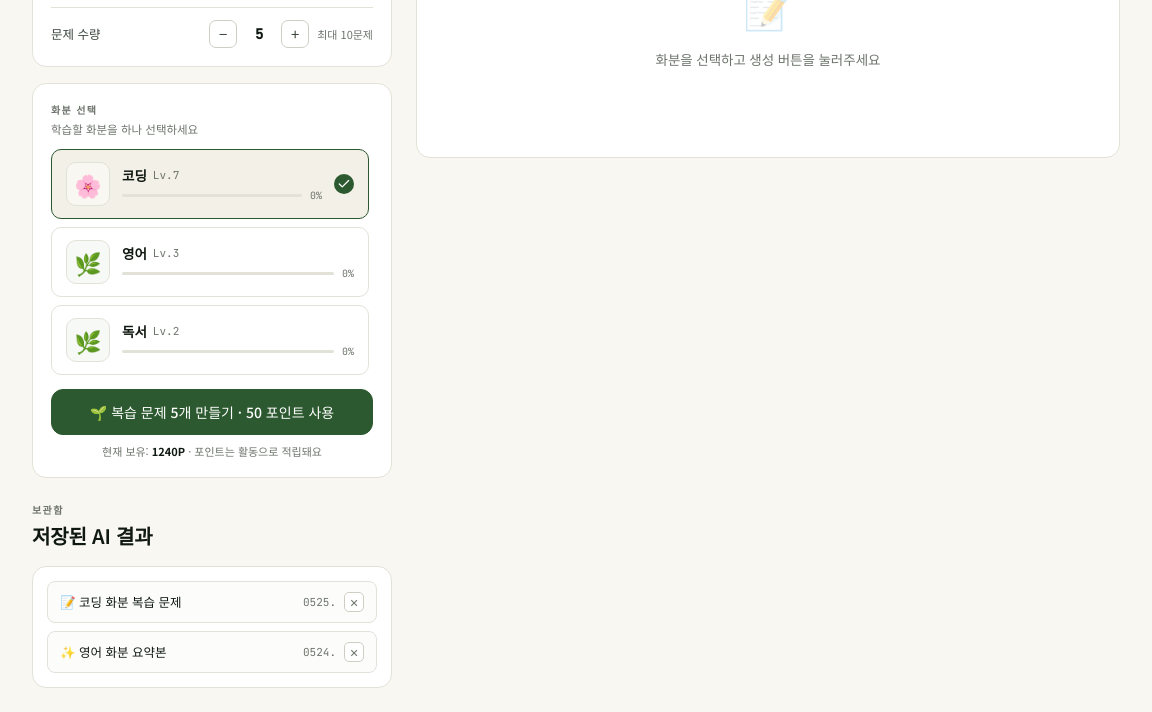
Test: 결과 저장 및 보관함 › 보관함 항목을 클릭하면 해당 결과가 우측에 표시된다
The width and height of the screenshot is (1152, 712).
(page scrolled)
Click the text "📝 코딩 화분 복습 문제".
click(121, 602)  # box x1=60 y1=592 x2=182 y2=611
(page scrolled)
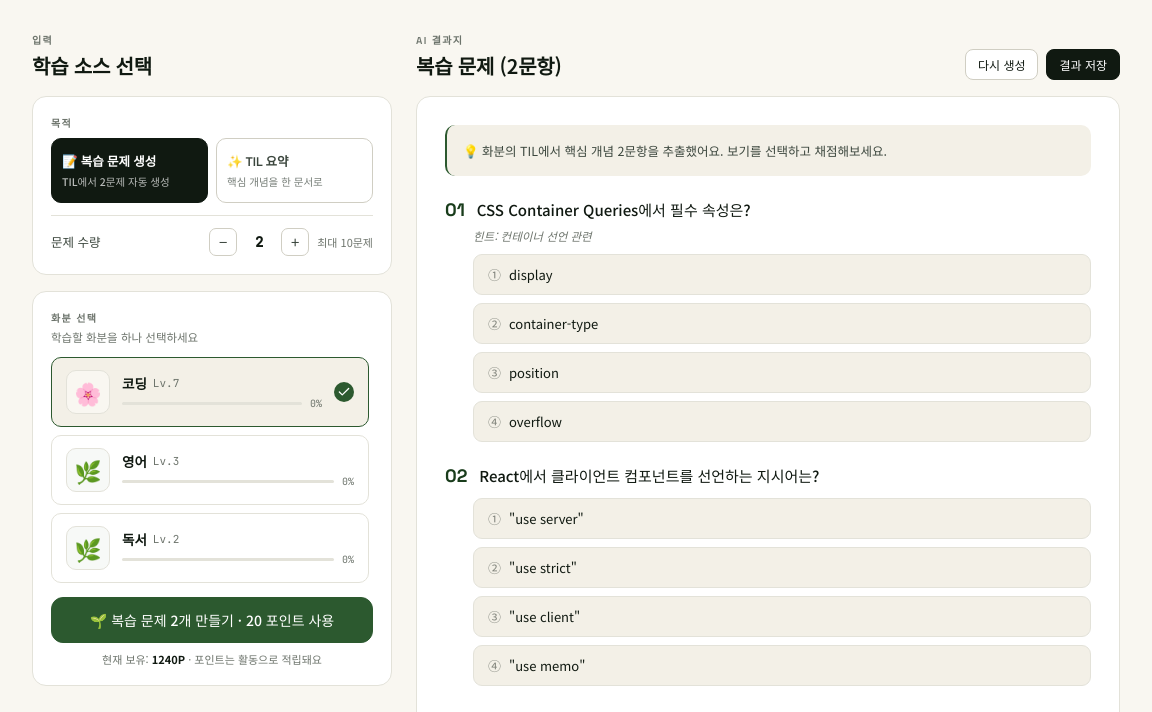
Now the button "결과 저장" is shown, box x1=1046 y1=49 x2=1120 y2=80
